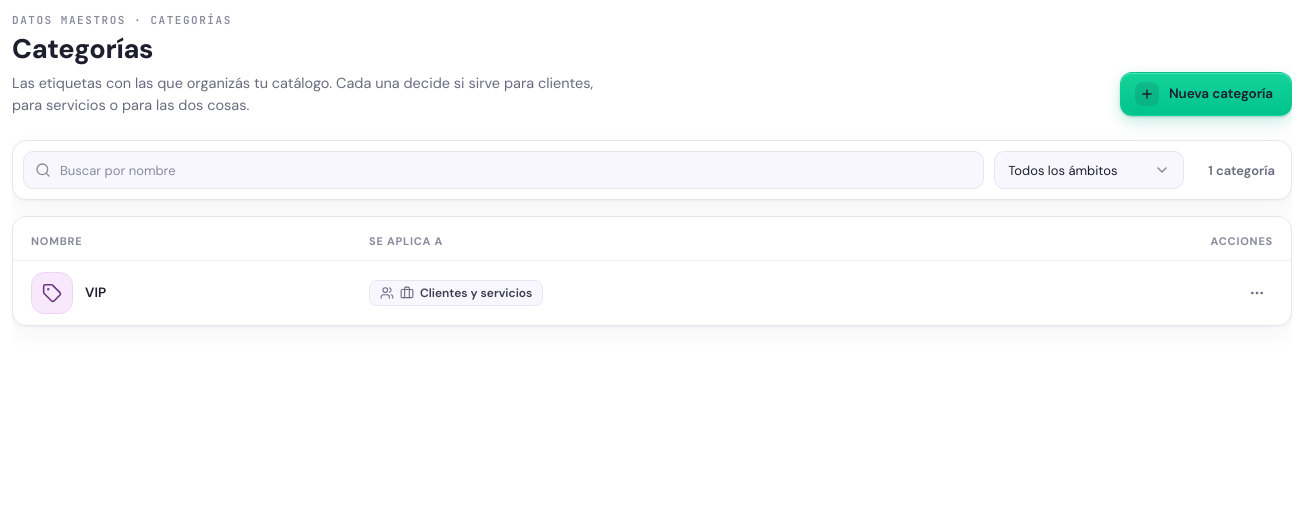
Test: ListadoDeCategorias › confirmar borra y recarga
The width and height of the screenshot is (1304, 517).
Click the button named "Más acciones para".
click(1257, 293)  # box [1241,277,1273,309]
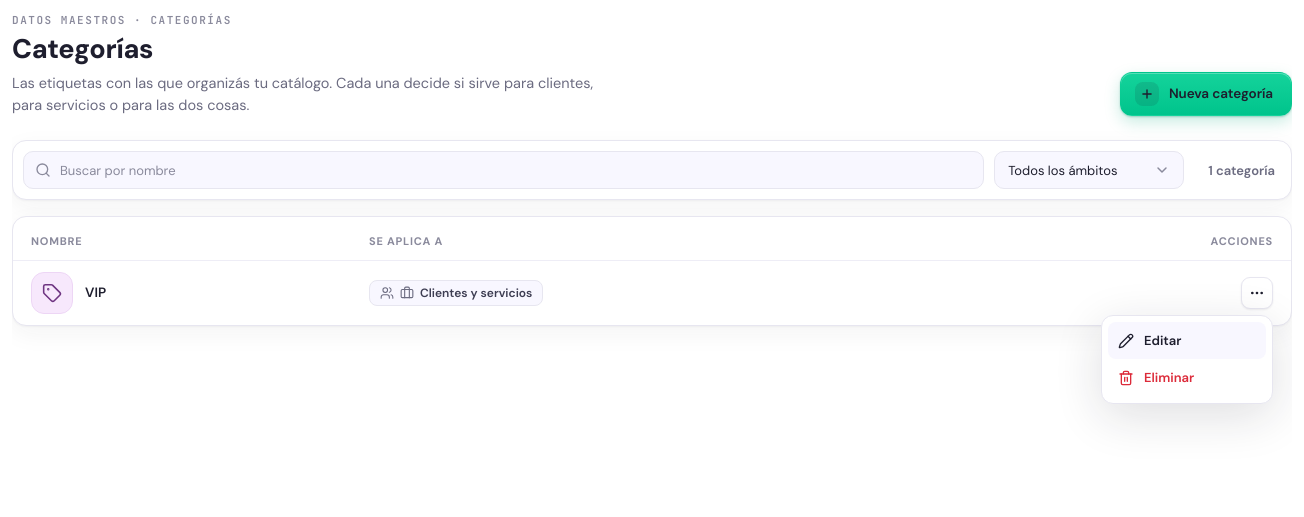
Click the menu item "Eliminar".
click(1187, 378)  # box [1108,359,1266,397]
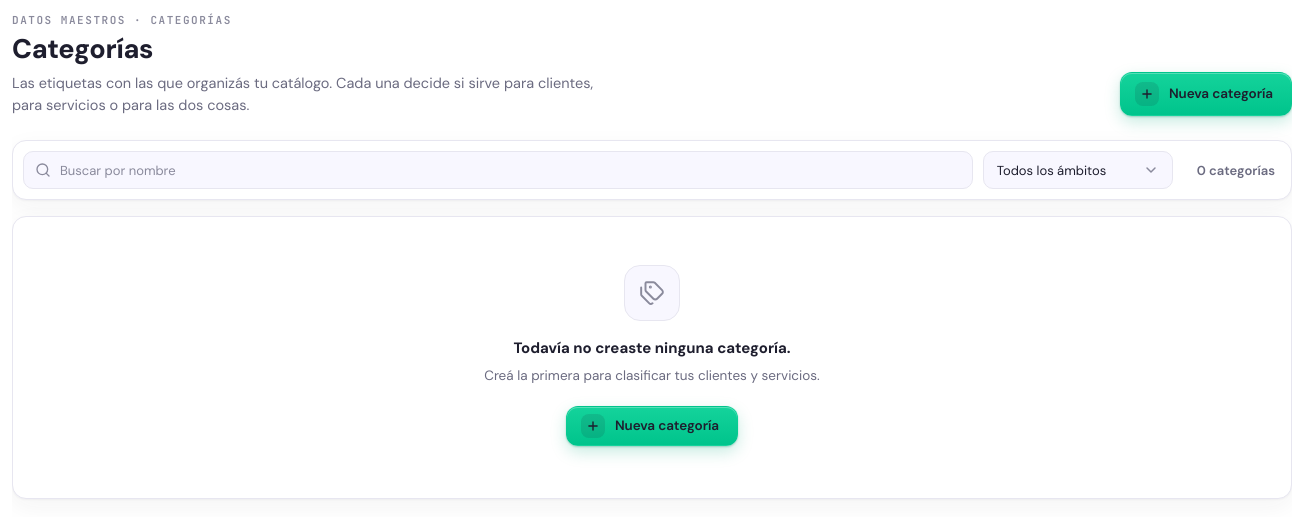
Expected: the text "Todavía no creaste ninguna categoría." is shown, [513,337,791,360]
